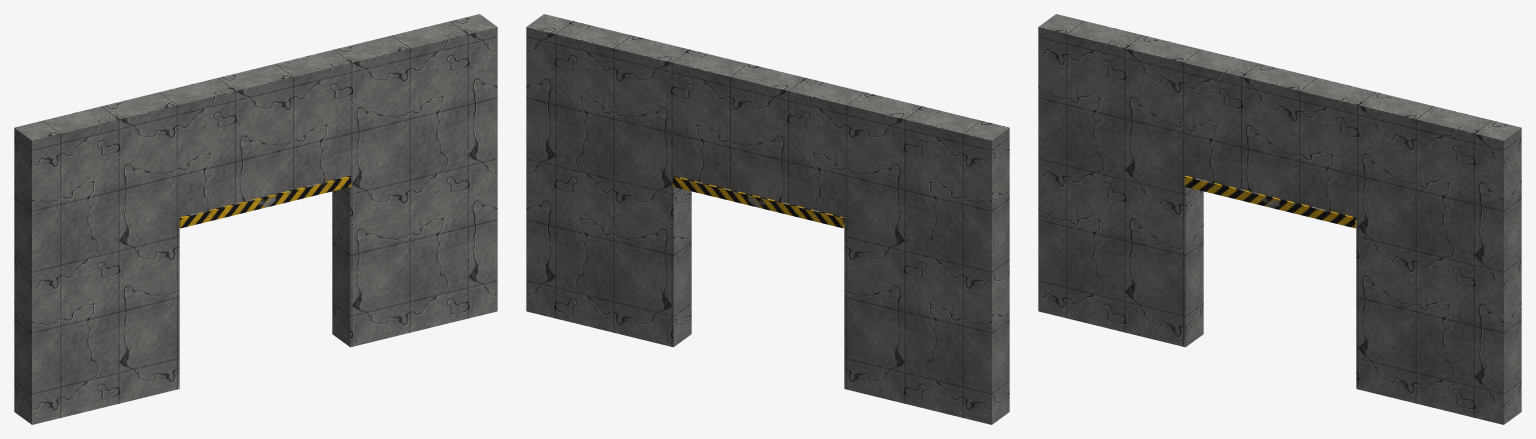
Rendered from frame.obj.
3 renders of one model, left to right at view 1: azimuth 30°, elevation 25°; view 2: azimuth 150°, elevation 25°; view 3: azimuth 330°, elevation 25°, orthographic.
Size of the model in its own units: 12 by 7 by 0.9.
2 materials, 2 textured.
